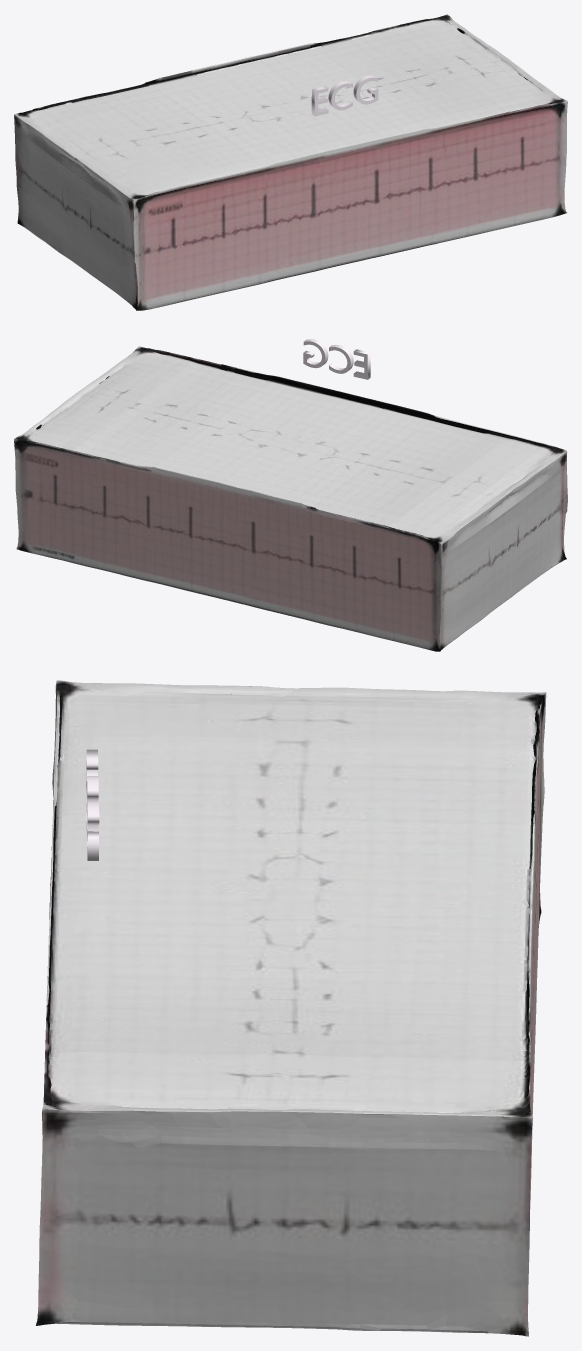
Rendered from Ekg.glb.
3 views of the same model, one above another, from view 1: azimuth 30°, elevation 25°; view 2: azimuth 150°, elevation 25°; view 3: azimuth 270°, elevation 25° (orthographic). The views are drawn at different scales.
Visible parts, largest first — view 1: Ekg, Texto.001; view 2: Ekg, Texto.001; view 3: Ekg, Texto.001.
Part boxes in pixels (box(x1,y1,x2,y2)): Ekg: box(14, 14, 567, 310); Texto.001: box(311, 75, 378, 116); Ekg: box(14, 346, 567, 651); Texto.001: box(303, 339, 370, 379); Ekg: box(36, 680, 546, 1336); Texto.001: box(86, 749, 99, 860).
Size of the model in its own units: 1.01 by 0.3912 by 0.5129.
Materials: 2 (1 with a texture image).
